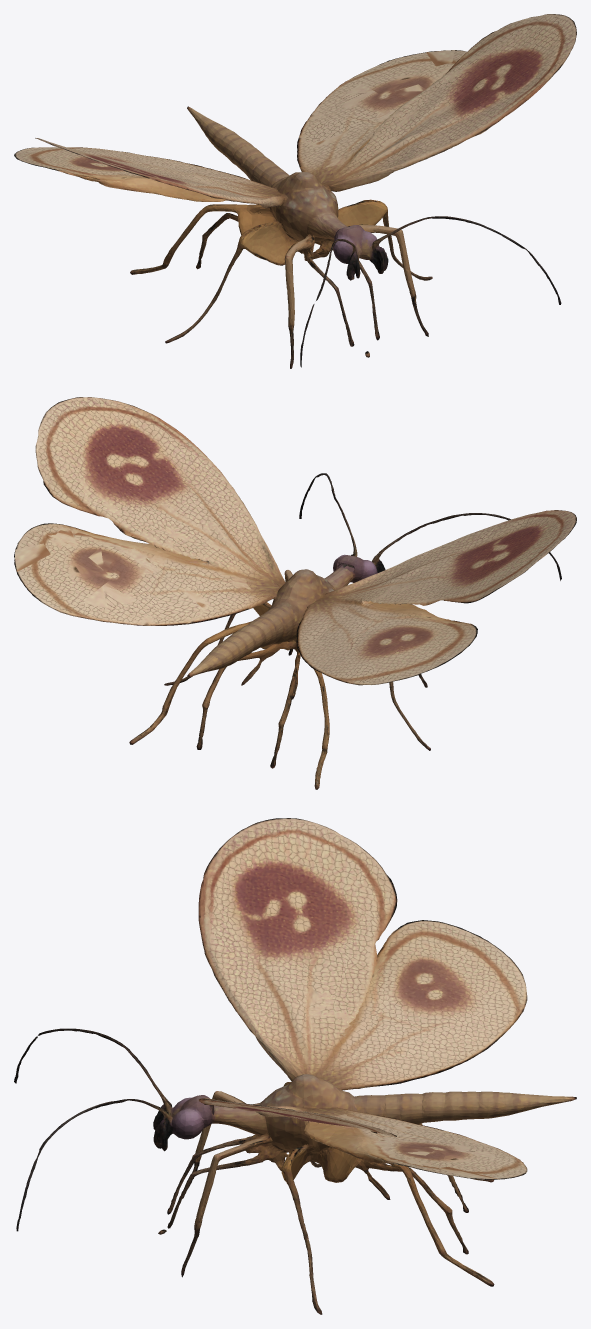
The picture shows the model from 3 angles, top to bottom: view 1: azimuth 30°, elevation 25°; view 2: azimuth 150°, elevation 25°; view 3: azimuth 270°, elevation 25°; orthographic projection. The views are drawn at different scales.
Parts seen in each view (by area): view 1: world; view 2: world; view 3: world.
Part boxes in pixels (x1=…): world: x1=14, y1=14, x2=576, y2=368; world: x1=14, y1=397, x2=576, y2=789; world: x1=14, y1=818, x2=576, y2=1314.
Bounding box in the file's own units: 0.108 × 0.0479 × 0.088.
1 material, 1 textured.
